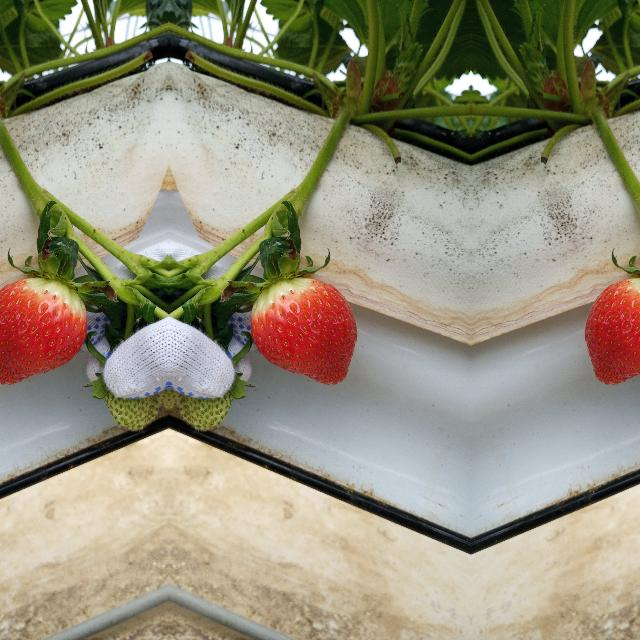Health_100: (249, 276, 357, 386), (0, 276, 87, 385), (584, 276, 640, 385)
